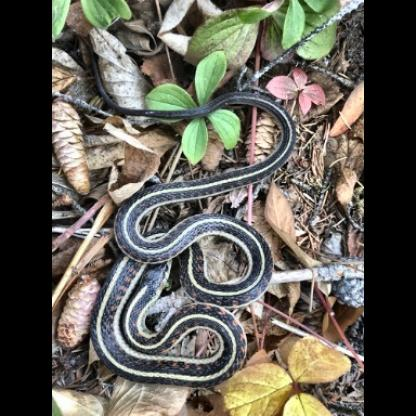Snake: (89, 31, 294, 385)
